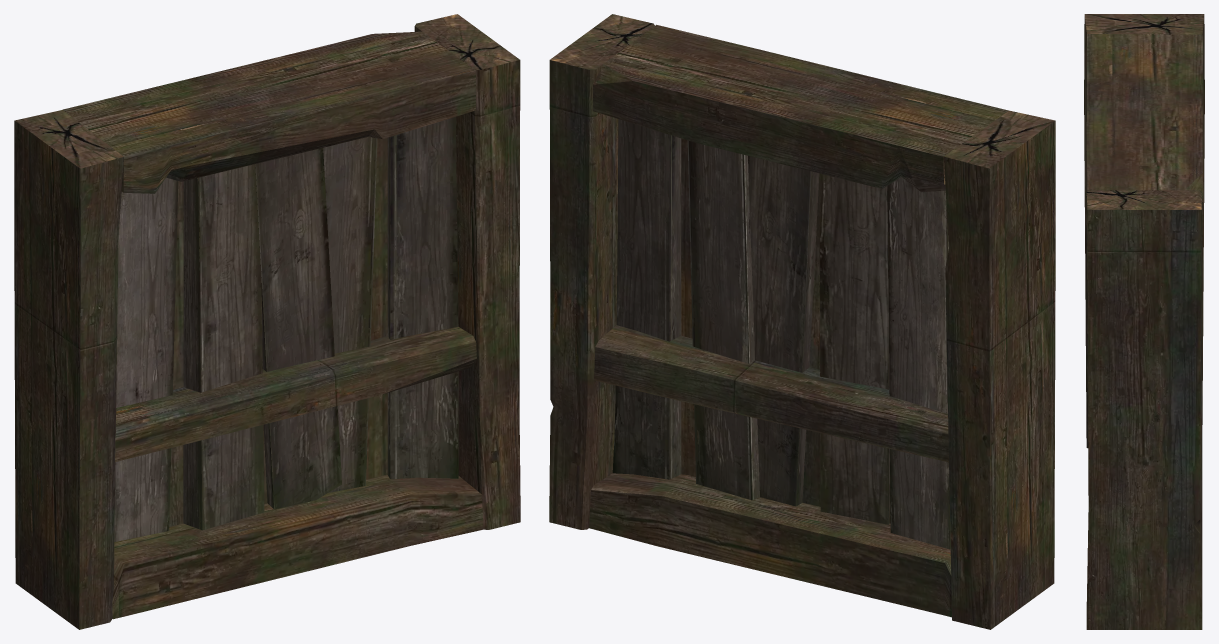
The picture shows the model from 3 angles, left to right: view 1: azimuth 30°, elevation 25°; view 2: azimuth 150°, elevation 25°; view 3: azimuth 270°, elevation 25°; orthographic projection. The views are drawn at different scales.
Visible parts, largest first — view 1: SM_BB_T1_Wall_Med_LOD0; view 2: SM_BB_T1_Wall_Med_LOD0; view 3: SM_BB_T1_Wall_Med_LOD0.
Boxes of the visible parts, left/top/right/bottom form: SM_BB_T1_Wall_Med_LOD0: left=14, top=14, right=520, bottom=629; SM_BB_T1_Wall_Med_LOD0: left=549, top=14, right=1055, bottom=629; SM_BB_T1_Wall_Med_LOD0: left=1084, top=14, right=1204, bottom=629.
Bounding box in the file's own units: 1.5 × 1.5 × 0.3912.
2 materials, 2 textured.
